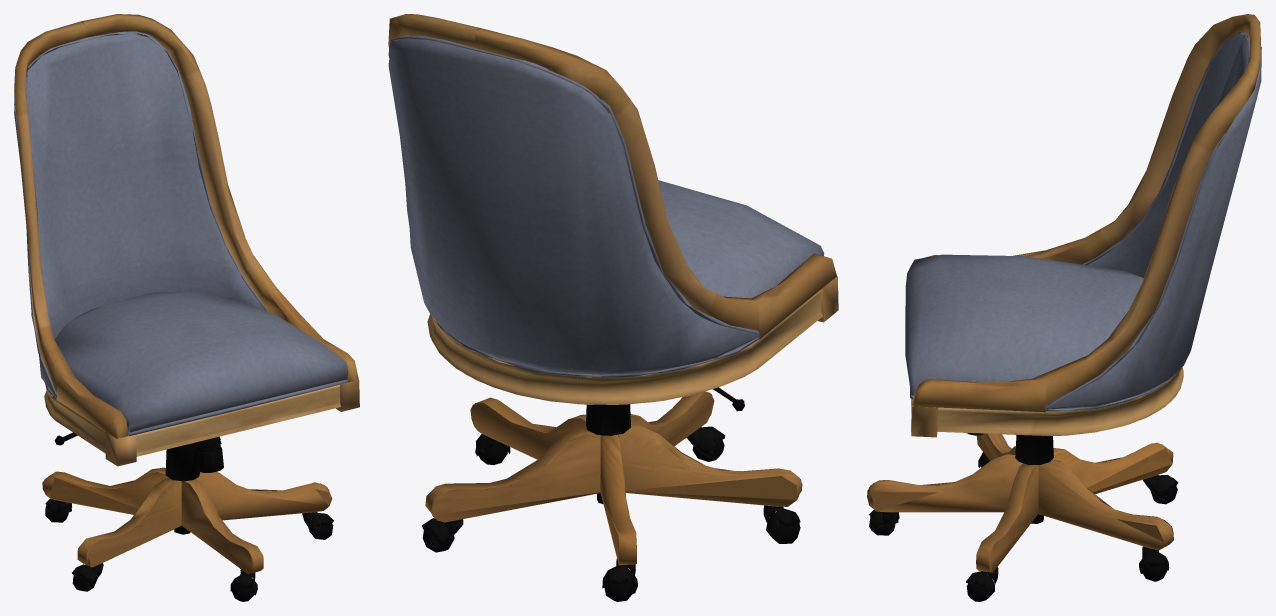
3 renders of one model, left to right at view 1: azimuth 30°, elevation 25°; view 2: azimuth 150°, elevation 25°; view 3: azimuth 270°, elevation 25°, orthographic. The views are drawn at different scales.
Visible parts, largest first — view 1: visual_RootNode; view 2: visual_RootNode; view 3: visual_RootNode.
Boxes of the visible parts, box(x1,y1,x2,y2) form: visual_RootNode: box(14, 14, 359, 601); visual_RootNode: box(388, 14, 838, 601); visual_RootNode: box(867, 14, 1261, 601).
Bounding box in the file's own units: 0.6053 × 0.7359 × 1.03.
Materials: 1 (1 with a texture image).
